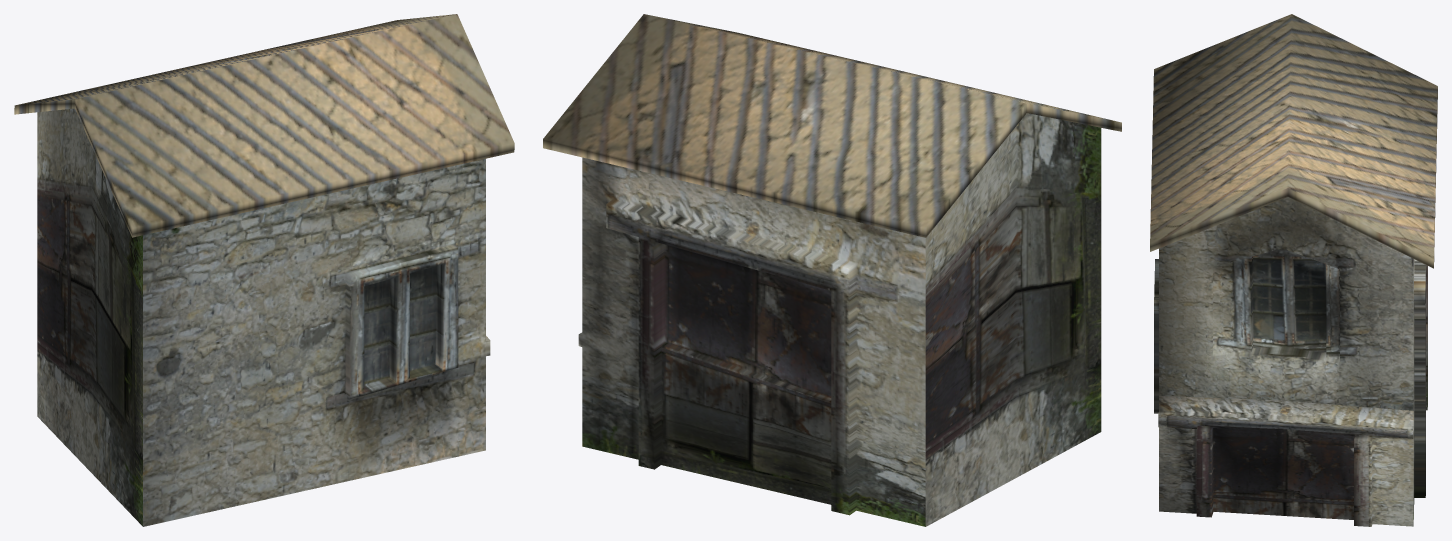
Rendered from Casa4.fbx.
The picture shows the model from 3 angles, left to right: view 1: azimuth 30°, elevation 25°; view 2: azimuth 150°, elevation 25°; view 3: azimuth 270°, elevation 25°; orthographic projection. The views are drawn at different scales.
Parts seen in each view (by area): view 1: Casa4; view 2: Casa4; view 3: Casa4.
Boxes of the visible parts, box(x1,y1,x2,y2) form: Casa4: box(14, 14, 514, 526); Casa4: box(543, 14, 1121, 526); Casa4: box(1150, 14, 1437, 526).
Bounding box in the file's own units: 1075 × 703 × 934.
